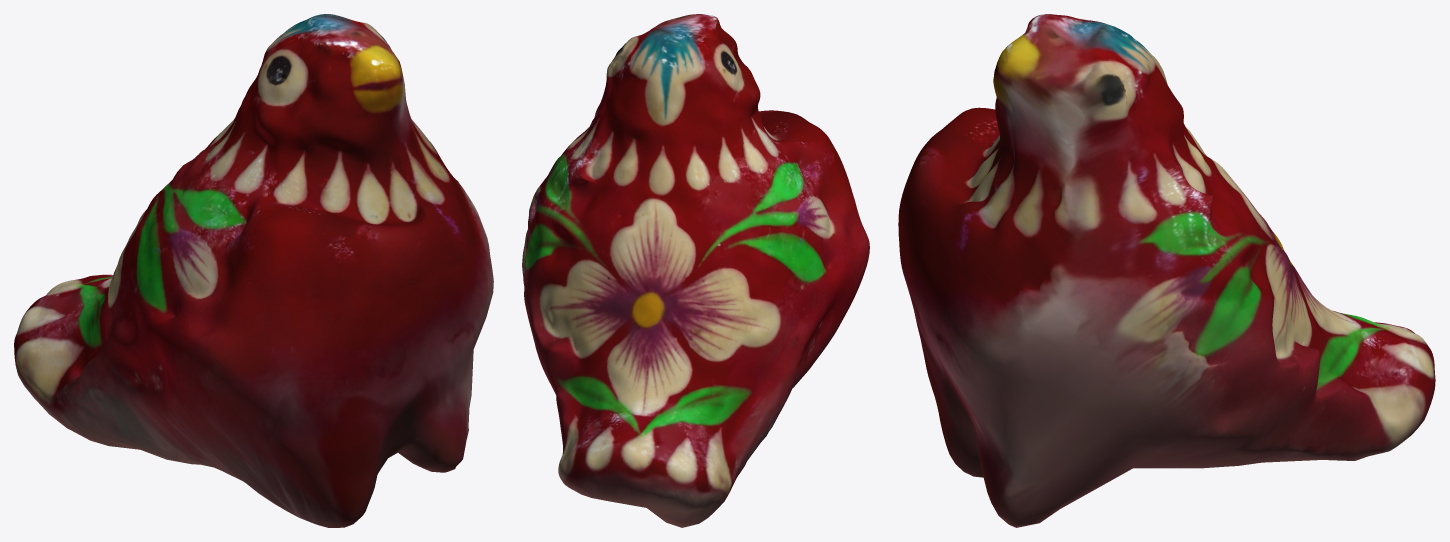
3 renders of one model, left to right at view 1: azimuth 30°, elevation 25°; view 2: azimuth 150°, elevation 25°; view 3: azimuth 270°, elevation 25°, orthographic. The views are drawn at different scales.
Size of the model in its own units: 0.4673 by 0.6443 by 0.6483.
1 material, 1 textured.
